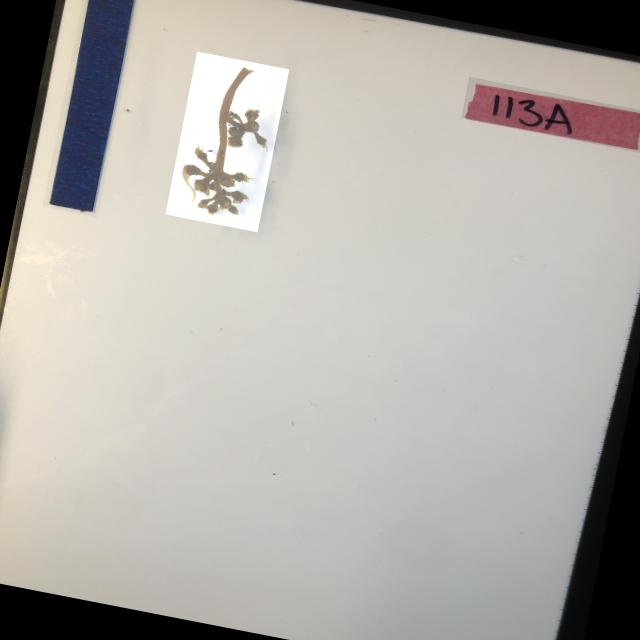index: (461, 77, 640, 153)
measure_label: (42, 0, 142, 217)
rachis_cluster: (165, 52, 289, 233)
